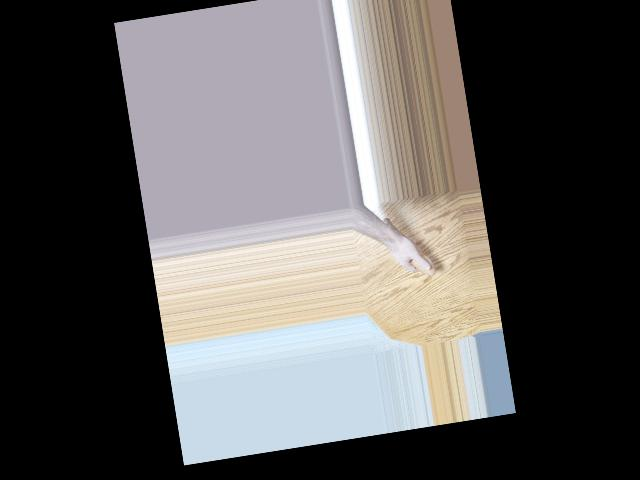sweet_potato: (383, 210, 437, 283)
